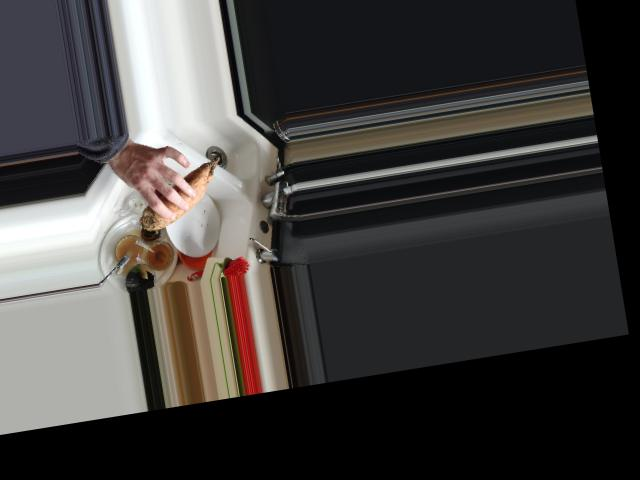sweet_potato: (133, 156, 229, 232)
